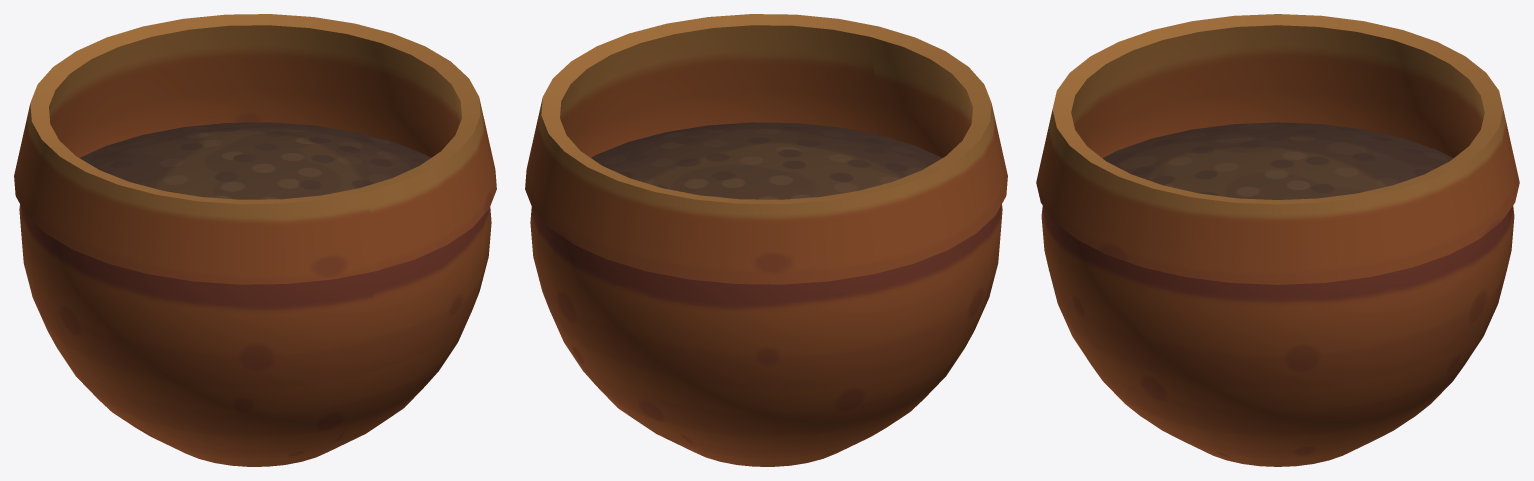
The model's file is PlantPot02.fbx.
3 views of the same model, side by side, from view 1: azimuth 30°, elevation 25°; view 2: azimuth 150°, elevation 25°; view 3: azimuth 270°, elevation 25° (orthographic).
Parts seen in each view (by area): view 1: Cylinder.002; view 2: Cylinder.002; view 3: Cylinder.002.
Boxes of the visible parts, x1,y1,x2,y2 form: Cylinder.002: (14, 14, 496, 466); Cylinder.002: (525, 14, 1007, 466); Cylinder.002: (1036, 14, 1519, 466).
Bounding box in the file's own units: 1.18 × 0.8548 × 1.18.
